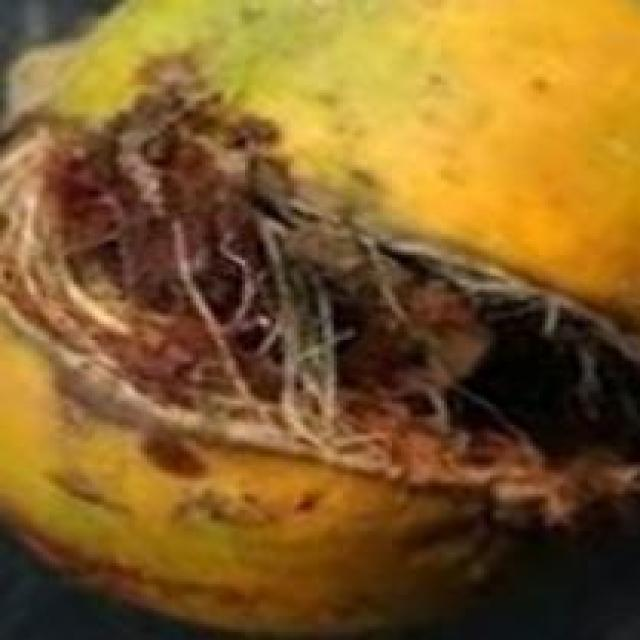damaged: (0, 0, 634, 629)
